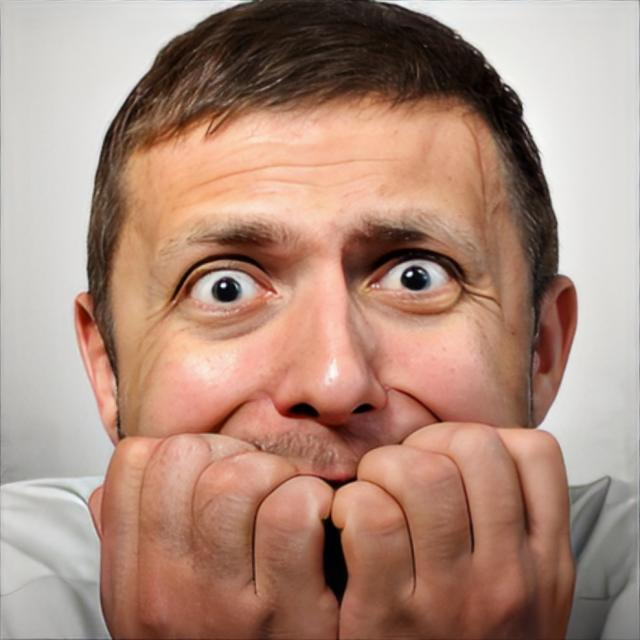fear: (112, 95, 540, 640)
